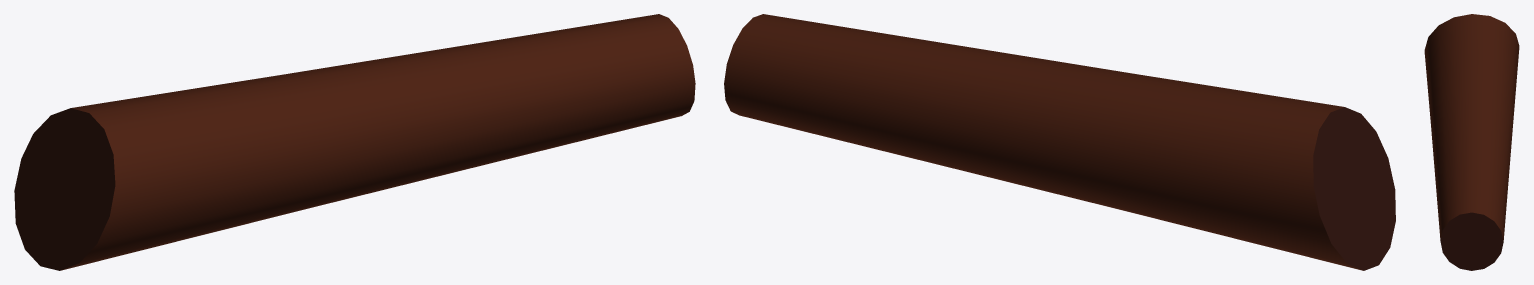
The model's file is BatteBaseBall_Part_1.fbx.
3 renders of one model, left to right at view 1: azimuth 30°, elevation 25°; view 2: azimuth 150°, elevation 25°; view 3: azimuth 270°, elevation 25°, orthographic. The views are drawn at different scales.
Visible parts, largest first — view 1: BatteBaseBall_Part_1; view 2: BatteBaseBall_Part_1; view 3: BatteBaseBall_Part_1.
Part boxes in pixels (x1,y1,x2,y2): BatteBaseBall_Part_1: (14,14,695,270); BatteBaseBall_Part_1: (724,14,1395,270); BatteBaseBall_Part_1: (1424,14,1519,270).
Size of the model in its own units: 35.2 by 7.52 by 7.59.
